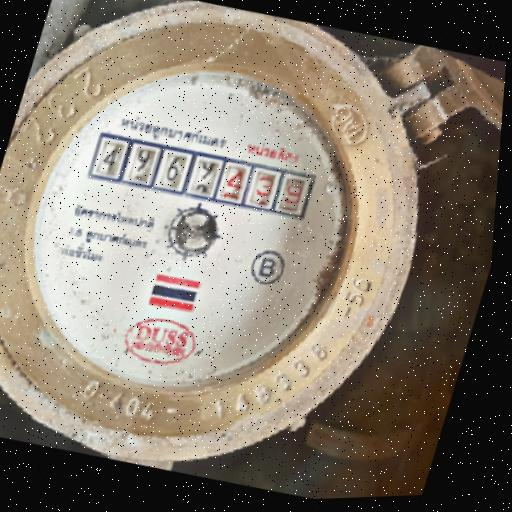3: (248, 170, 277, 208)
4: (219, 165, 248, 203), (97, 142, 124, 176)
6: (159, 154, 188, 190)
9: (127, 147, 157, 184), (191, 160, 219, 196), (278, 178, 306, 213)
border_water_meter_number: (83, 124, 321, 228)
